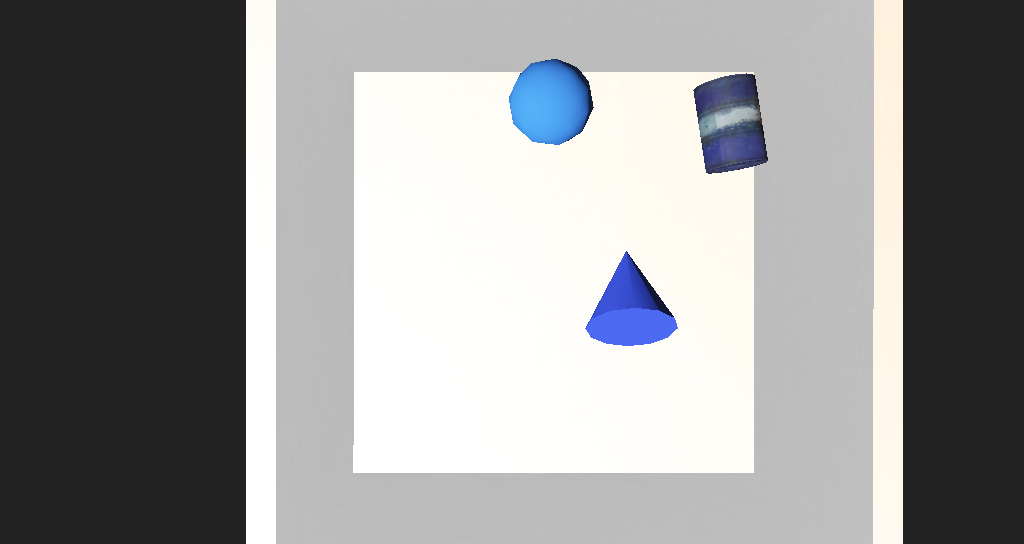cone: (610, 165, 670, 217)
cylinder: (529, 243, 603, 310)
sphere: (475, 160, 536, 203)
